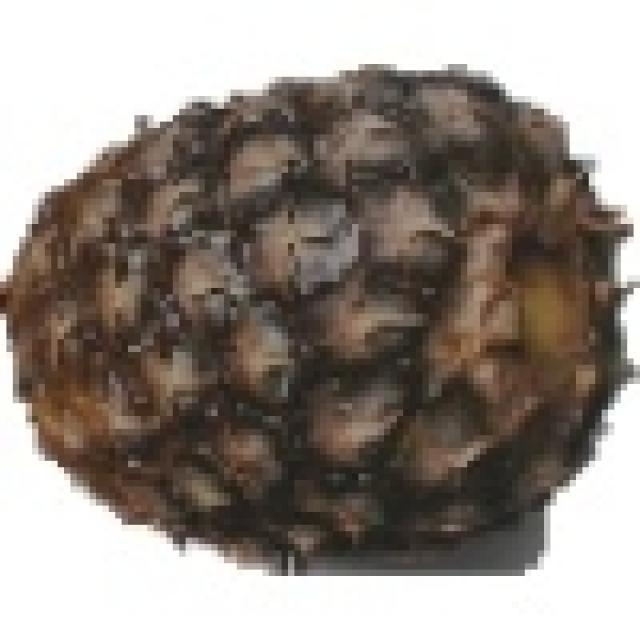pineapple: (0, 58, 614, 557)
